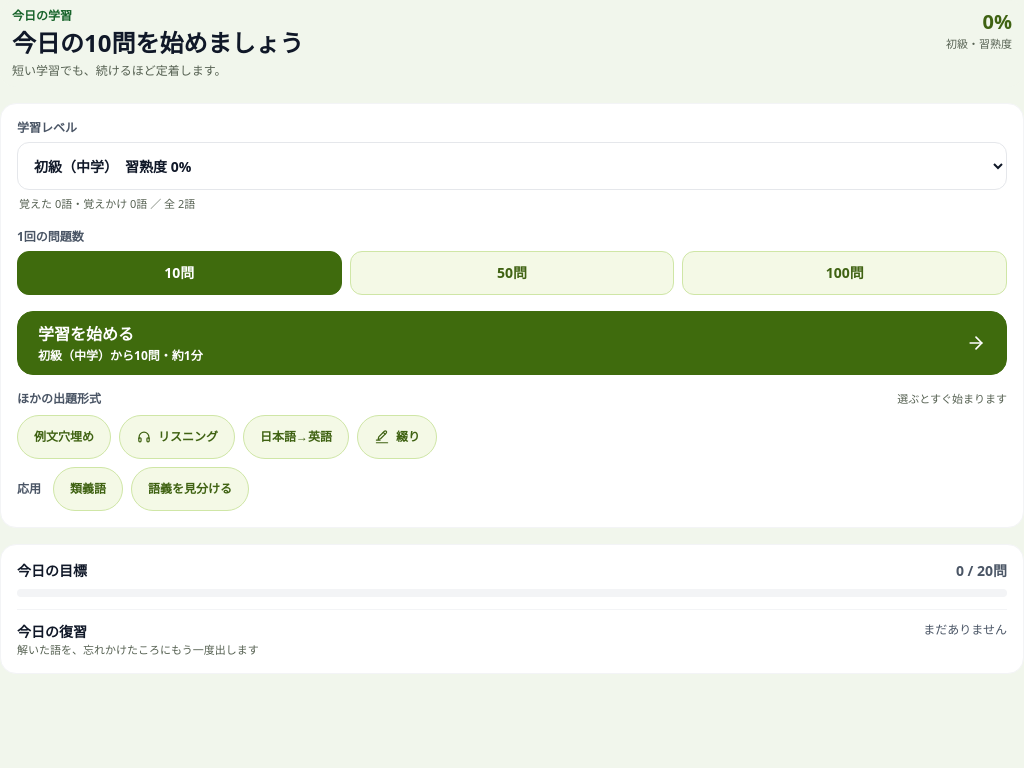
Scenario: 1回の問題数 › 開始ボタンに、何問・何分かを書く
The width and height of the screenshot is (1024, 768).
Expected: the button with id "btn_junior_word" shows "初級（中学）から10問・約1分", [17,310,1007,374]
Click the button with id "btn_question_count_50" at (512, 272), box [350,250,674,294]
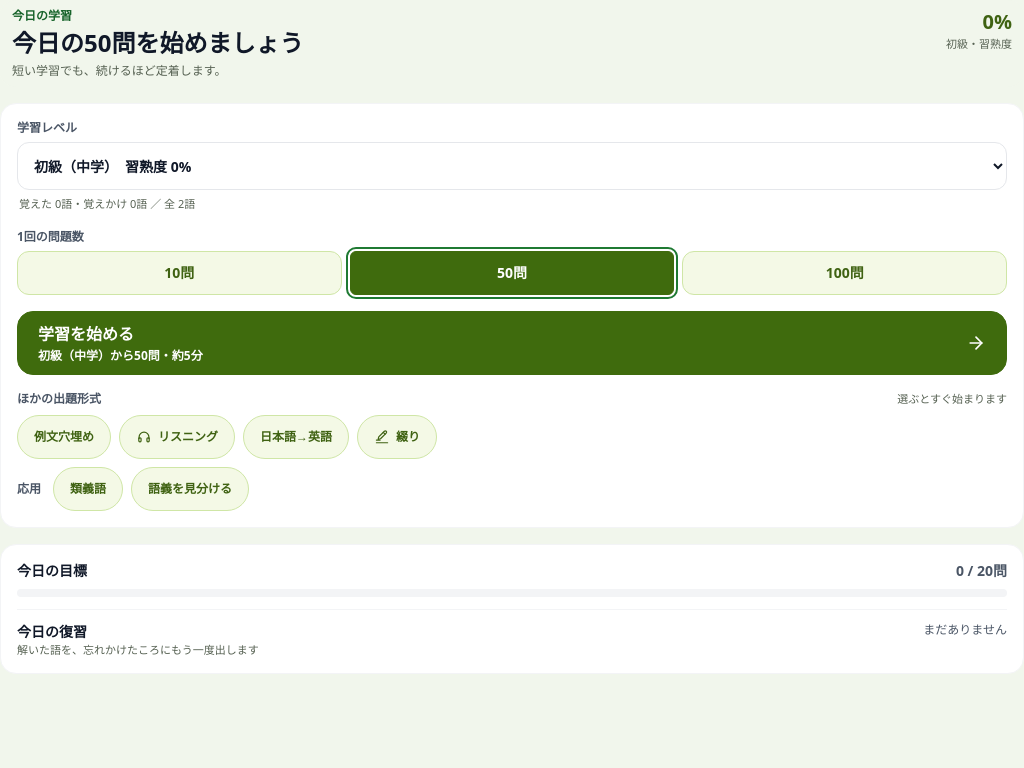
Now the button with id "btn_junior_word" shows "初級（中学）から50問・約5分", box [17,310,1007,374]
